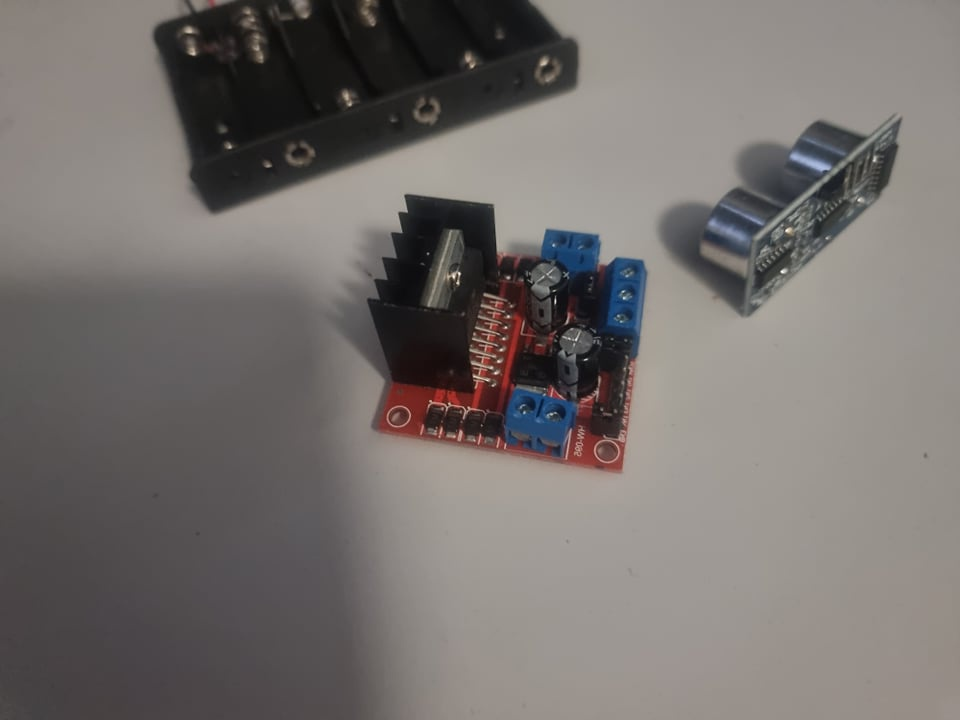BATTERY BOX: (150, 4, 586, 219)
MOTOR: (367, 192, 648, 474)
SENSOR: (701, 113, 900, 319)
